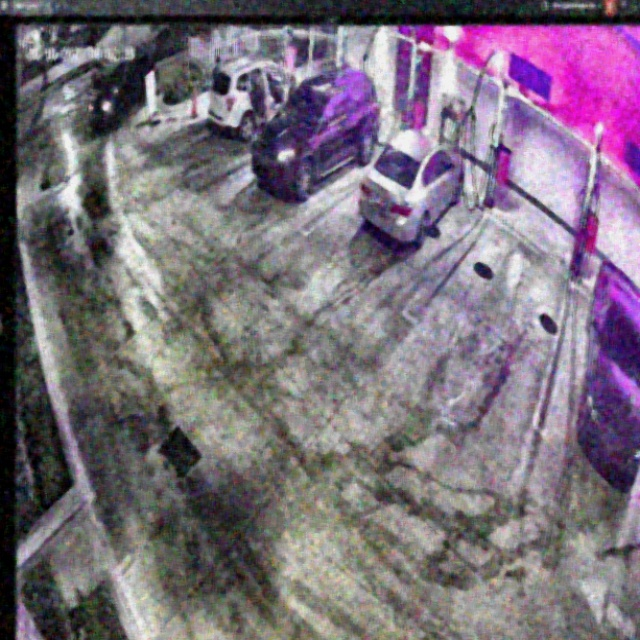Car: (251, 70, 381, 202), (357, 131, 465, 245)
